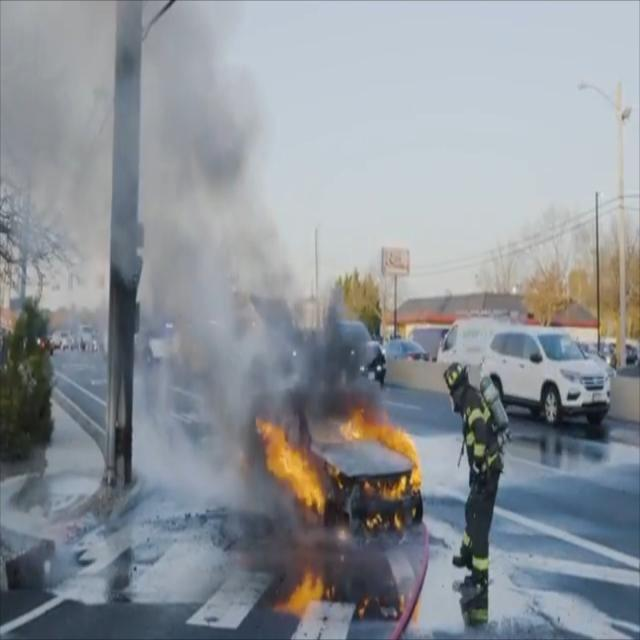fire: (259, 372, 422, 531), (273, 568, 408, 614)
